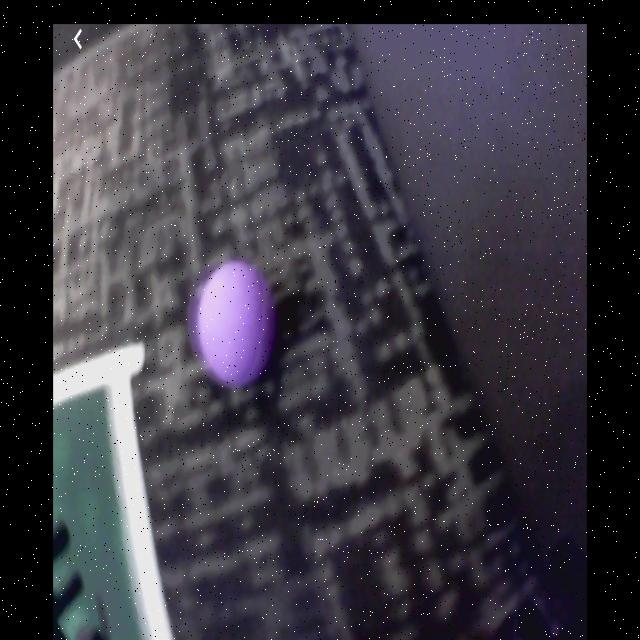ball: (193, 263, 277, 387)
